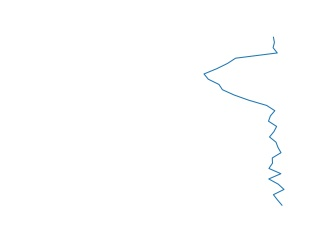distalBar: (201, 37, 288, 207)
